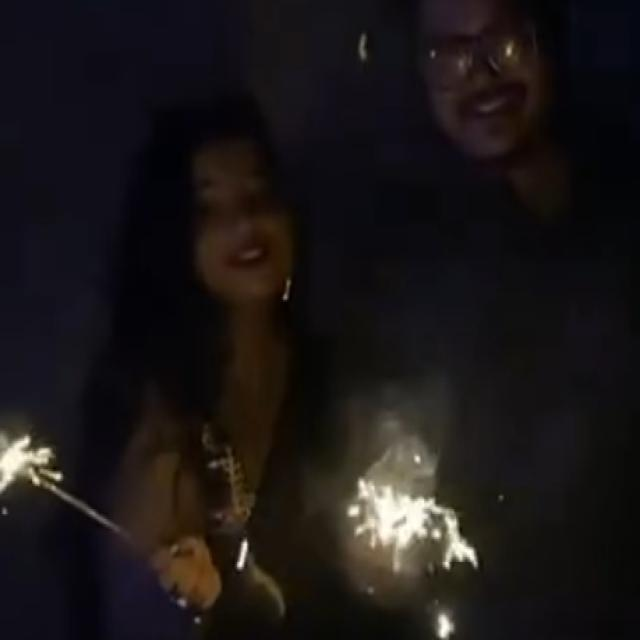fire: (347, 480, 478, 583), (0, 436, 62, 516)
